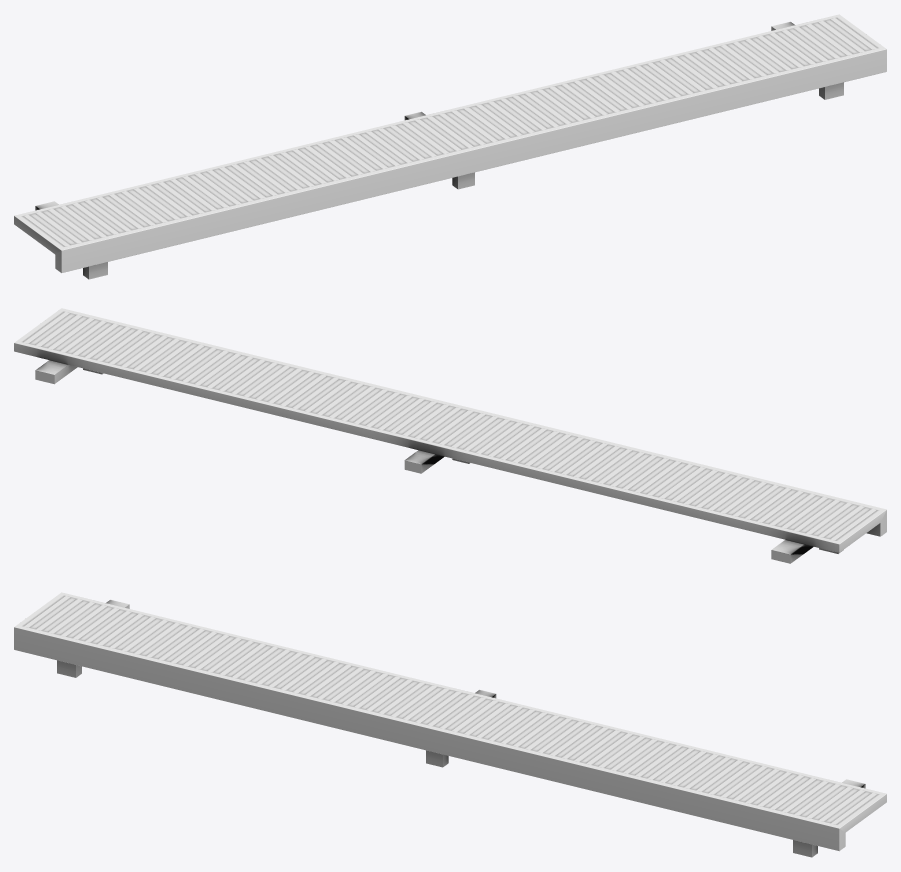
Rendered from Staires steps.fbx.
The picture shows the model from 3 angles, top to bottom: view 1: azimuth 30°, elevation 25°; view 2: azimuth 150°, elevation 25°; view 3: azimuth 330°, elevation 25°; orthographic projection.
Visible parts, largest first — view 1: Low; view 2: Low; view 3: Low.
Boxes of the visible parts, x1=… form: Low: x1=14, y1=14, x2=886, y2=279; Low: x1=14, y1=308, x2=886, y2=563; Low: x1=14, y1=592, x2=886, y2=857.
Size of the model in its own units: 500 by 25.11 by 64.34.
Materials: 1 (1 with a texture image).
